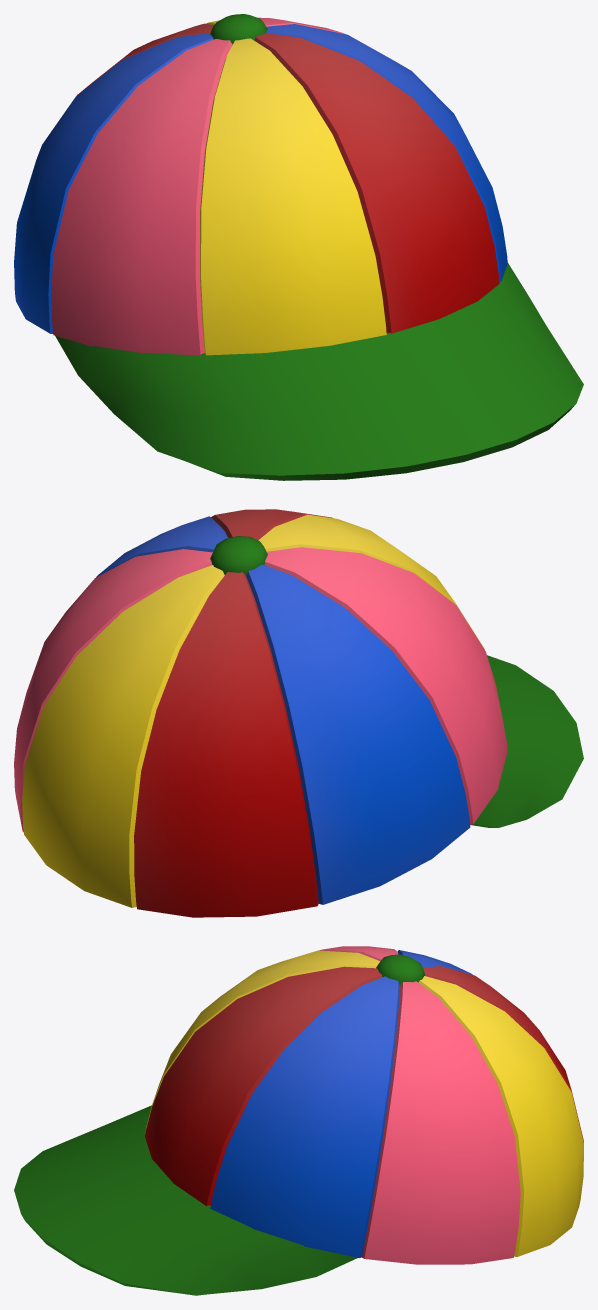
Rendered from KidCap.FBX.
3 renders of one model, top to bottom at view 1: azimuth 30°, elevation 25°; view 2: azimuth 150°, elevation 25°; view 3: azimuth 270°, elevation 25°, orthographic. The views are drawn at different scales.
Parts seen in each view (by area): view 1: KidCap; view 2: KidCap; view 3: KidCap.
Boxes of the visible parts, x1,y1,x2,y2 form: KidCap: (14, 14, 583, 480); KidCap: (14, 509, 583, 917); KidCap: (14, 946, 583, 1295).
Bounding box in the file's own units: 35.03 × 23.94 × 48.17.
Materials: 1 (1 with a texture image).
